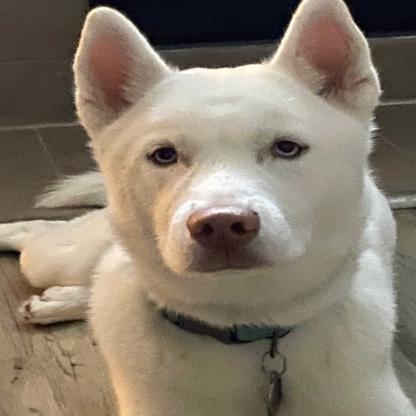dog: (4, 7, 416, 416)
